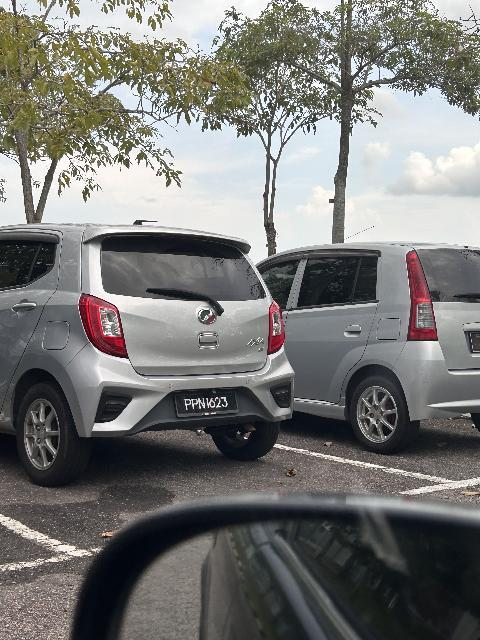License_Plate: (177, 391, 238, 417)
PPN1623: (177, 391, 238, 417)
car: (1, 222, 289, 478), (243, 242, 480, 455)
